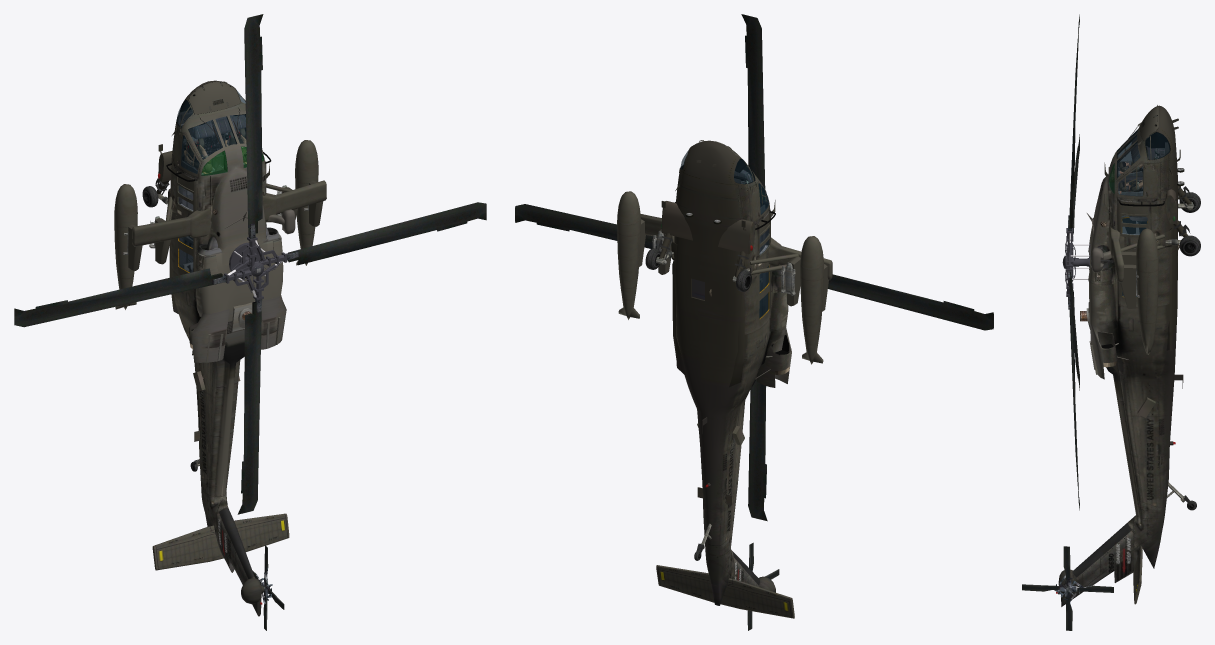
The picture shows the model from 3 angles, left to right: view 1: azimuth 30°, elevation 25°; view 2: azimuth 150°, elevation 25°; view 3: azimuth 270°, elevation 25°; orthographic projection.
Visible parts, largest first — view 1: fuselage, main_rotor, elevator, cabinDoor_L, Door_L; view 2: fuselage, main_rotor, elevator, Door_L, cabinDoor_L; view 3: fuselage, main_rotor, cabinDoor_R, rear_rotor, Door_R, pilot, elevator, tyre_R, Window_R2, window_R1.
Boxes of the visible parts, x1=… form: fuselage: x1=114, y1=80, x2=326, y2=616; main_rotor: x1=14, y1=14, x2=486, y2=514; elevator: x1=152, y1=513, x2=289, y2=570; cabinDoor_L: x1=171, y1=124, x2=202, y2=178; Door_L: x1=170, y1=213, x2=193, y2=275; fuselage: x1=617, y1=140, x2=832, y2=605; main_rotor: x1=515, y1=14, x2=993, y2=521; elevator: x1=656, y1=565, x2=794, y2=618; Door_L: x1=743, y1=262, x2=769, y2=334; cabinDoor_L: x1=743, y1=180, x2=769, y2=222; fuselage: x1=1056, y1=105, x2=1193, y2=606; main_rotor: x1=1062, y1=14, x2=1090, y2=510; cabinDoor_R: x1=1116, y1=160, x2=1165, y2=199; rear_rotor: x1=1022, y1=546, x2=1113, y2=630; Door_R: x1=1120, y1=246, x2=1171, y2=305; pilot: x1=1118, y1=150, x2=1160, y2=191; elevator: x1=1133, y1=545, x2=1142, y2=604; tyre_R: x1=1179, y1=235, x2=1200, y2=256; Window_R2: x1=1120, y1=213, x2=1148, y2=226; window_R1: x1=1120, y1=225, x2=1148, y2=237.
Bounding box in the file's own units: 15.93 × 19.69 × 5.23.
